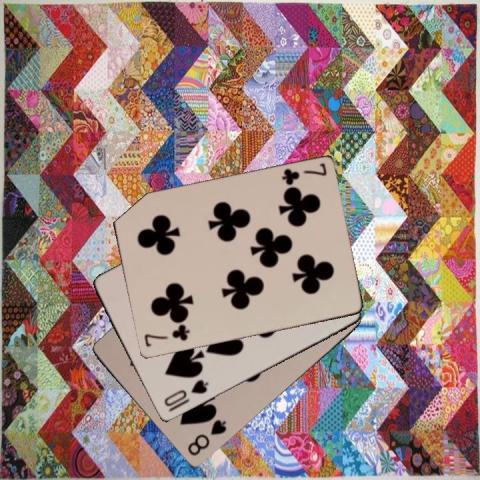10s: (161, 376, 209, 408)
7c: (279, 160, 328, 187), (141, 324, 191, 349)
8s: (185, 417, 228, 458)
